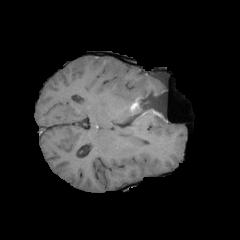glioma: (110, 85, 169, 137)
